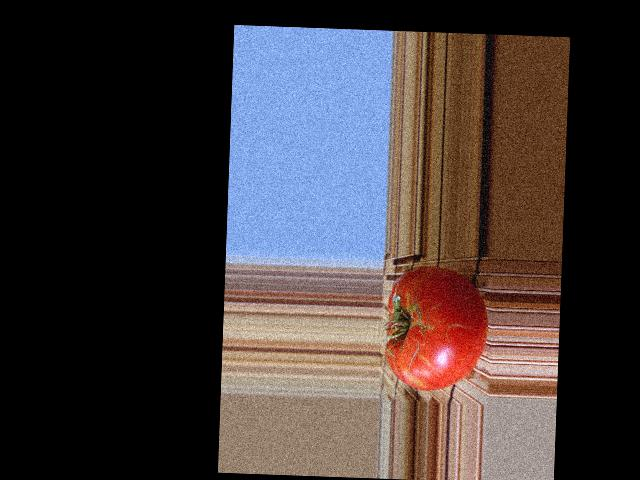tomato: (384, 264, 488, 392)
